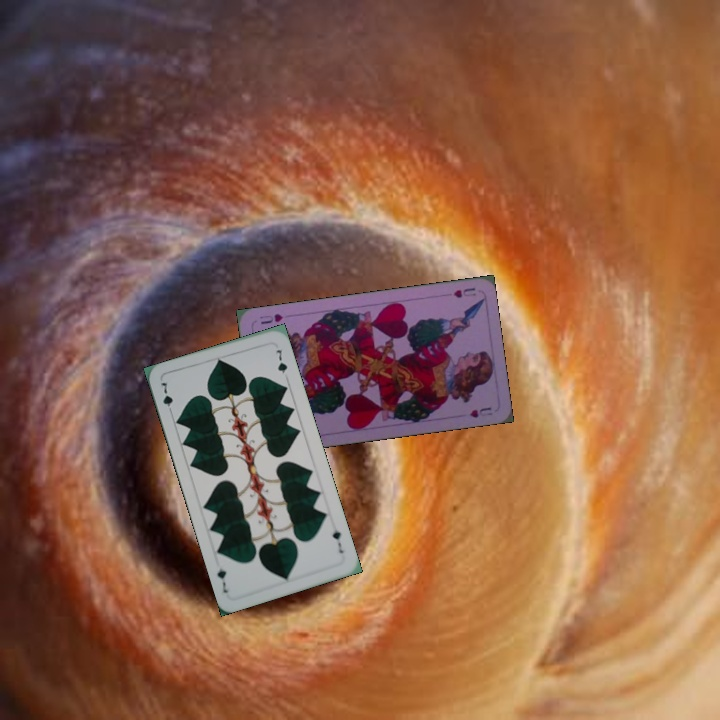G7: (156, 378, 175, 417), (328, 521, 346, 556)
HU: (449, 283, 478, 301)
